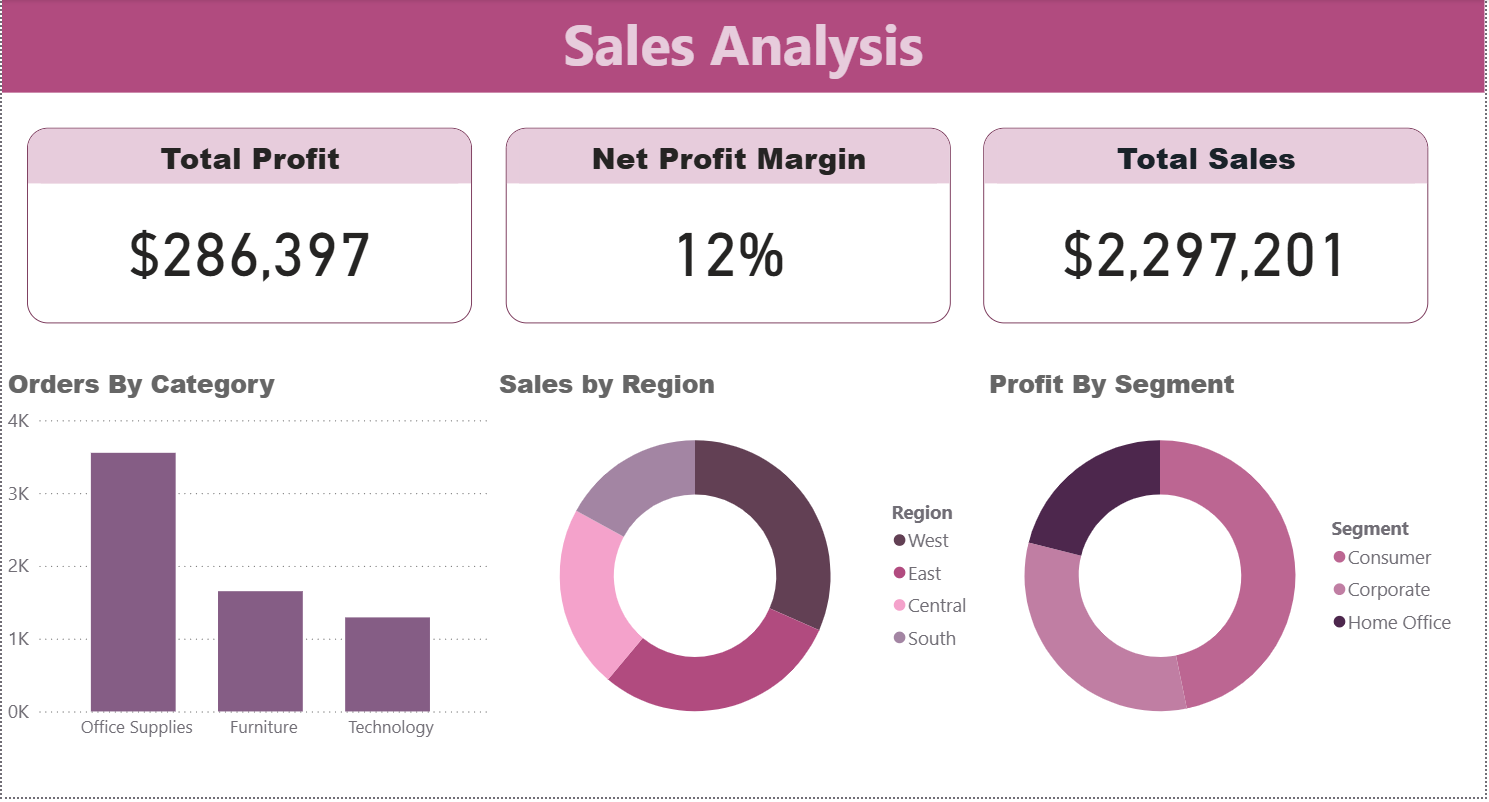

Layout of this report page (visuals, bound fields, positions):
{"tool":"powerbi","page":{"name":"Page 1","canvas":[1280,689],"ordinal":0},"visuals":[{"type":"card","title":"Total Sales ","fields":{"Values":["Sum(Orders (2).Sales)","select"]},"box":[846.9,111.1,383.8,168.8],"z":0},{"type":"card","title":"Total Profit","fields":{"Values":["Sum(Orders (2).Profit)"]},"box":[21.6,111.1,383.8,168.8],"z":1000},{"type":"columnChart","title":" Orders By Category","fields":{"Category":["Orders (2).Category"],"Y":["Count(Orders (2).Sales)"]},"box":[0,317.4,424.2,331.8],"z":2000},{"type":"donutChart","title":"Profit By Segment","fields":{"Category":["Orders (2).Segment"],"Y":["Sum(Orders (2).Profit)"]},"box":[846.9,317.4,418.4,331.8],"z":3000},{"type":"card","title":"Net Profit Margin","fields":{"Values":["Orders.Net Profit Margin"]},"box":[434.3,111.1,383.8,168.8],"z":7000},{"type":"donutChart","title":"Sales by Region","fields":{"Category":["Orders.Region"],"Y":["Sum(Orders.Sales)"]},"box":[424.2,317.4,422.7,331.8],"z":8000},{"type":"textbox","box":[0,0,1279.7,80.8],"z":8002}]}

Visuals, with their boxes in screenshot pixels (x1, y1, x2, y2), scaled from the page's 1280x689 canvas onto the 1489x802 screenshot:
"Total Sales " card: select_region(985, 129, 1432, 326)
"Total Profit" card: select_region(25, 129, 472, 326)
" Orders By Category" columnChart: select_region(0, 369, 493, 756)
"Profit By Segment" donutChart: select_region(985, 369, 1472, 756)
"Net Profit Margin" card: select_region(505, 129, 952, 326)
"Sales by Region" donutChart: select_region(493, 369, 985, 756)
textbox: select_region(0, 0, 1488, 94)
